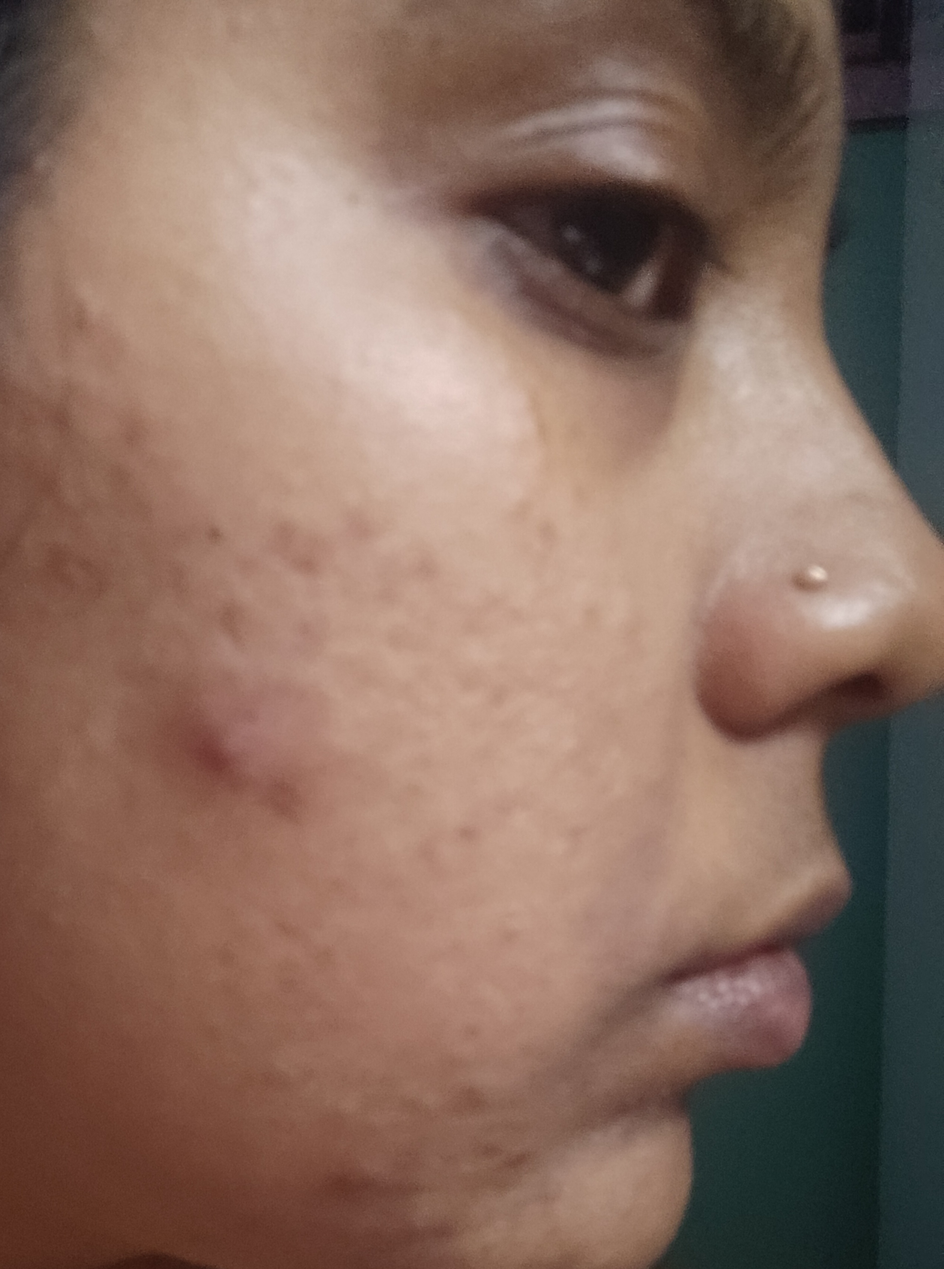nodule: (162, 679, 267, 808), (317, 1139, 399, 1240)
papule: (269, 494, 348, 591), (26, 540, 112, 603), (489, 475, 552, 549), (122, 385, 164, 477), (62, 276, 112, 343), (489, 871, 524, 965)
